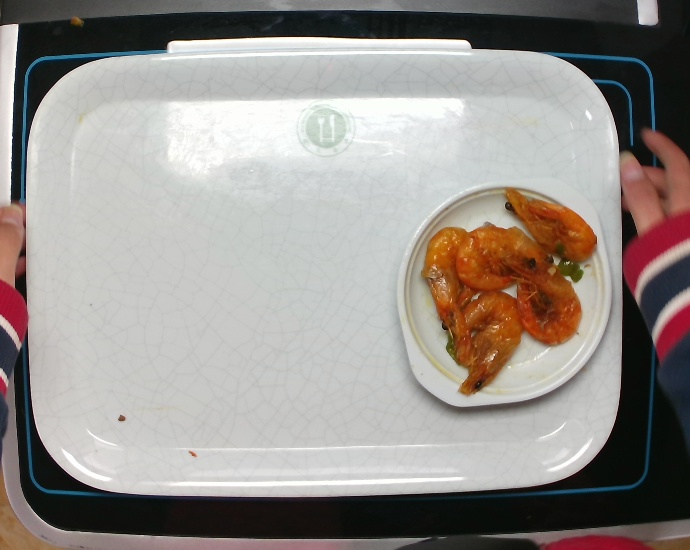JYsf-Shuang_Er_Pan: (394, 172, 623, 412)
